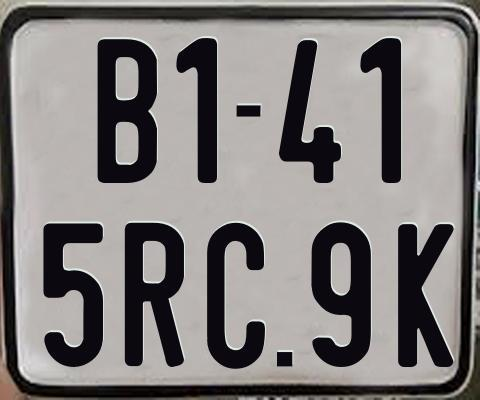1: (176, 37, 221, 183), (359, 35, 402, 185)
4: (278, 37, 346, 182)
5: (41, 223, 106, 369)
9: (309, 220, 375, 368)
B: (97, 38, 157, 188)
C: (207, 220, 266, 372)
K: (397, 223, 457, 372)
R: (122, 220, 186, 370)
